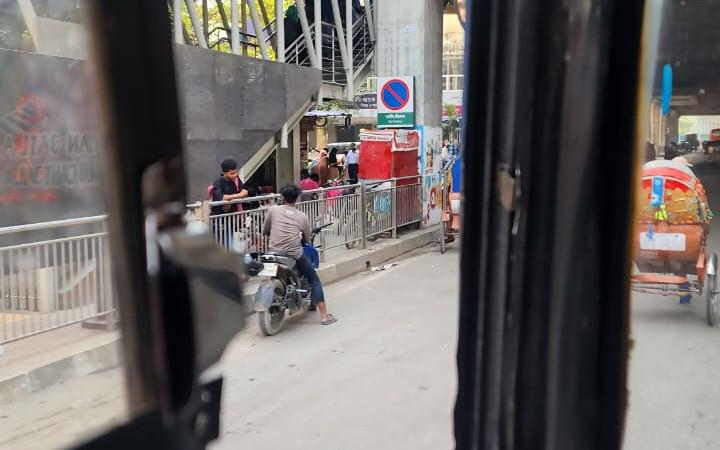No Parking: (377, 75, 415, 128)
